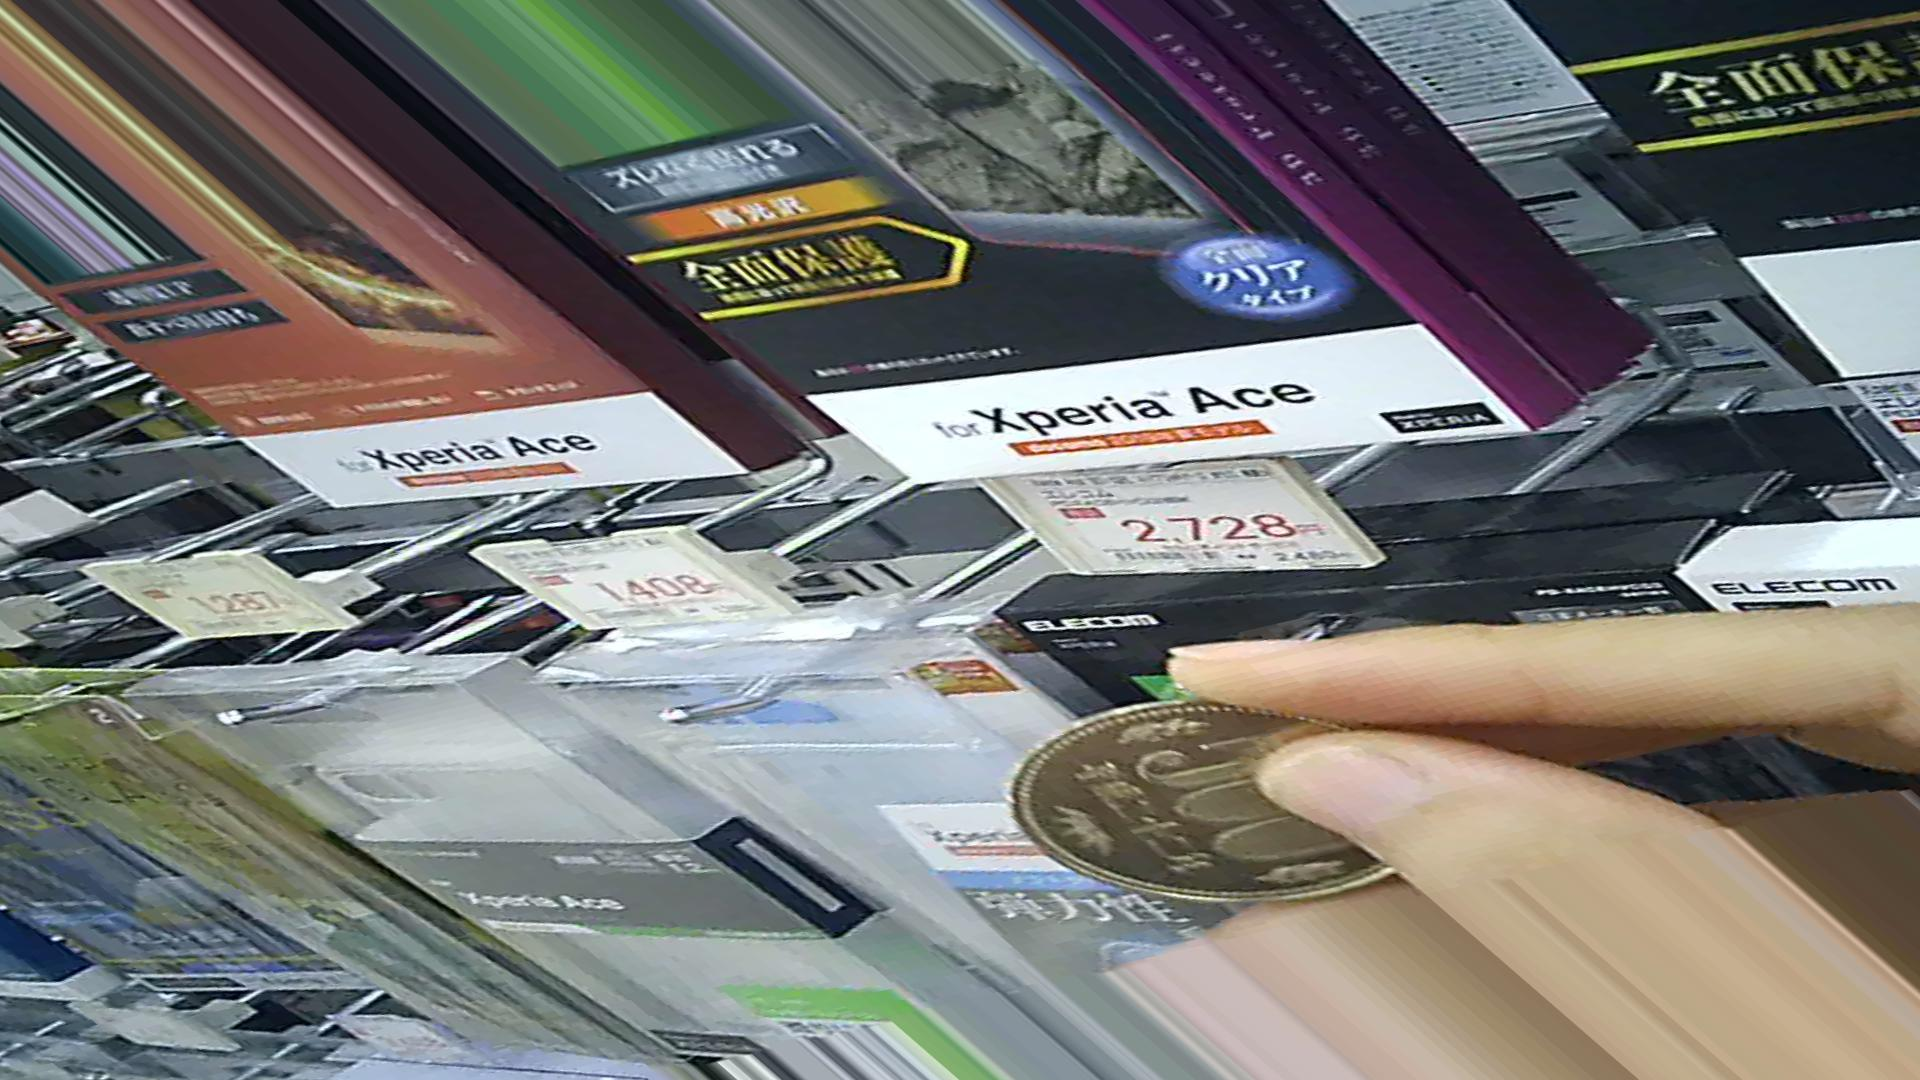500 Yen: (993, 688, 1418, 913)
